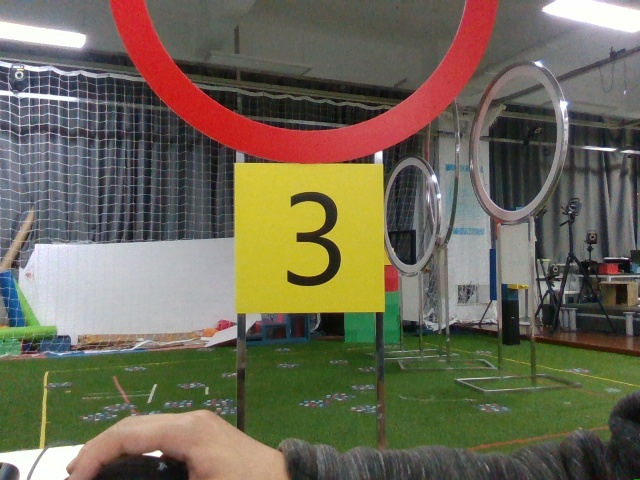target: (236, 164, 382, 307)
